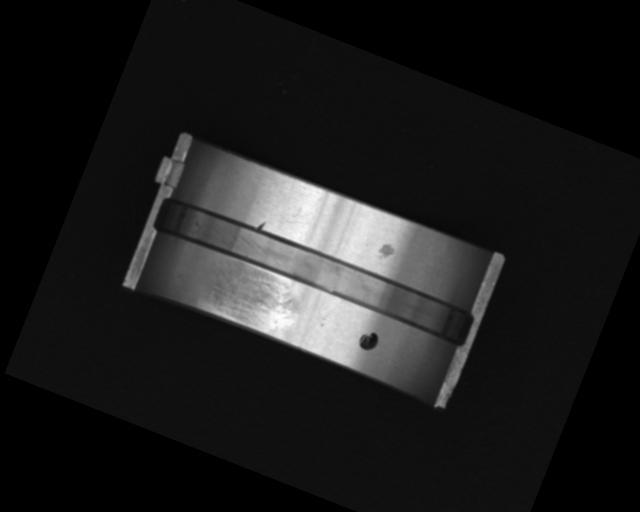blot: (357, 327, 381, 355)
bruise: (374, 239, 399, 265), (257, 218, 267, 231)
gap: (149, 191, 478, 349)
scratch: (197, 253, 308, 342)
